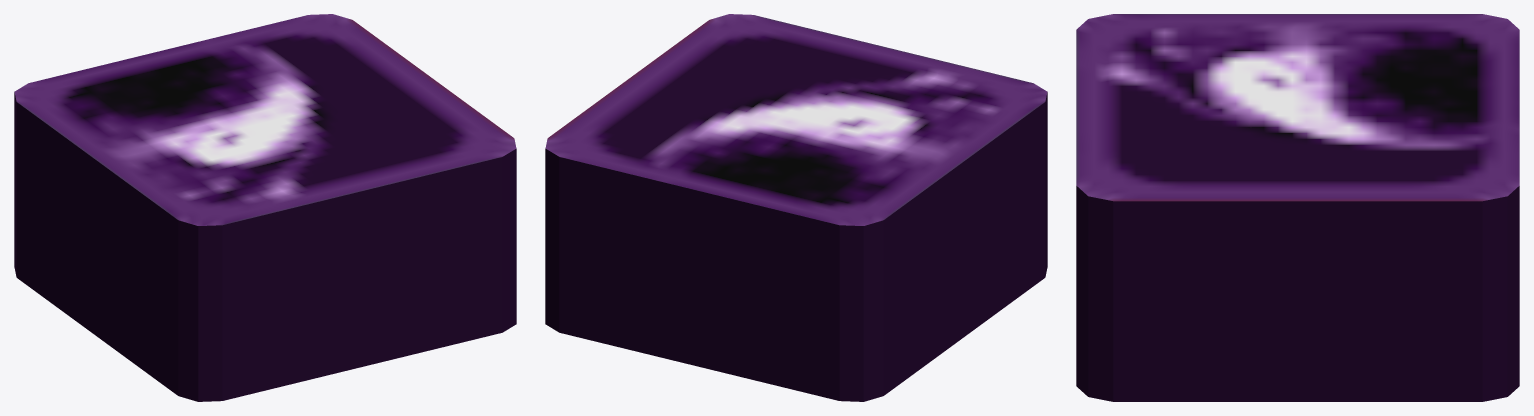
The model's file is icon_harvest.obj.
3 views of the same model, side by side, from view 1: azimuth 30°, elevation 25°; view 2: azimuth 150°, elevation 25°; view 3: azimuth 270°, elevation 25° (orthographic). The views are drawn at different scales.
Parts seen in each view (by area): view 1: Icon-Harvest.001_Plane.018; view 2: Icon-Harvest.001_Plane.018; view 3: Icon-Harvest.001_Plane.018.
Boxes of the visible parts, left/top/right/bottom form: Icon-Harvest.001_Plane.018: left=14, top=14, right=516, bottom=401; Icon-Harvest.001_Plane.018: left=545, top=14, right=1047, bottom=401; Icon-Harvest.001_Plane.018: left=1076, top=14, right=1519, bottom=401.
Size of the model in its own units: 2 by 1 by 2.
2 materials, 2 textured.
